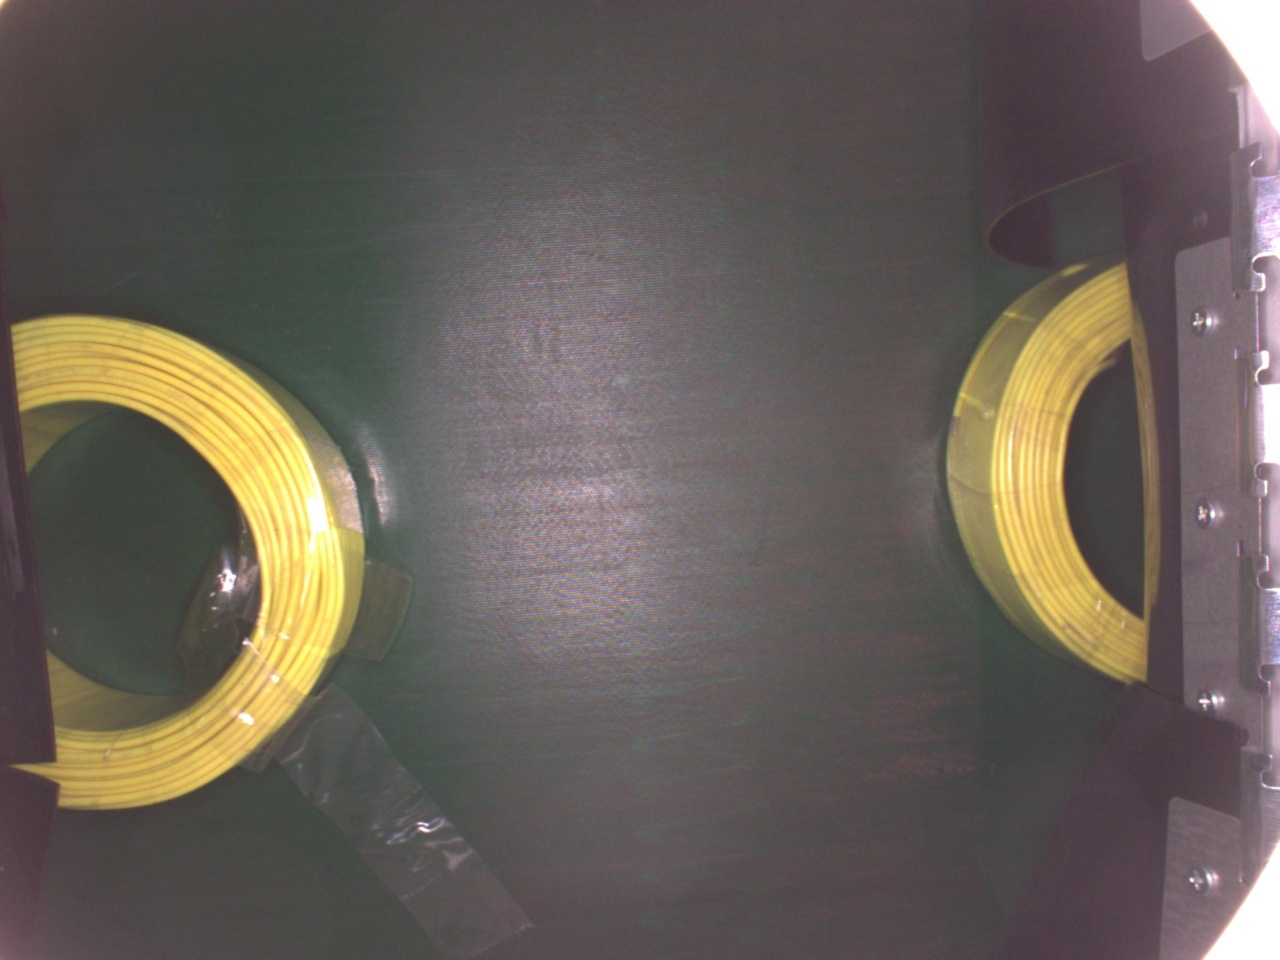yellow: (8, 311, 366, 811), (945, 249, 1150, 689)
